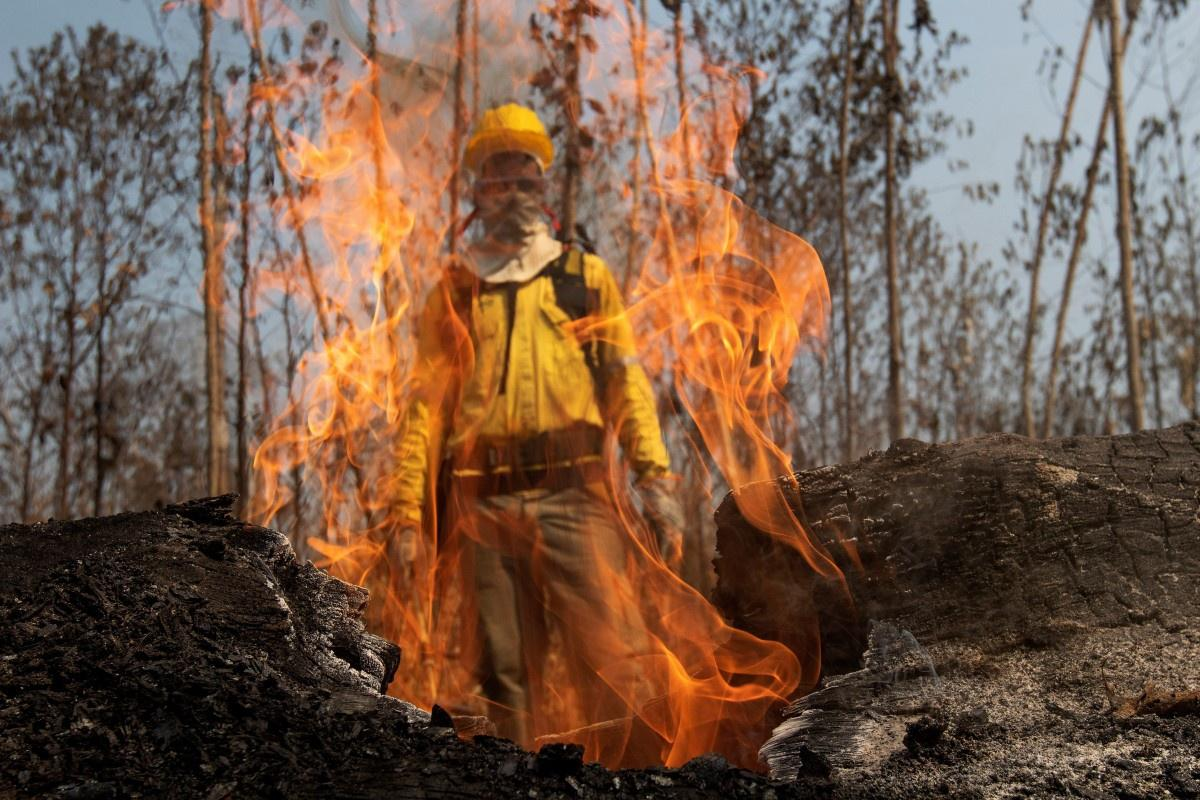victim: (365, 105, 719, 762)
